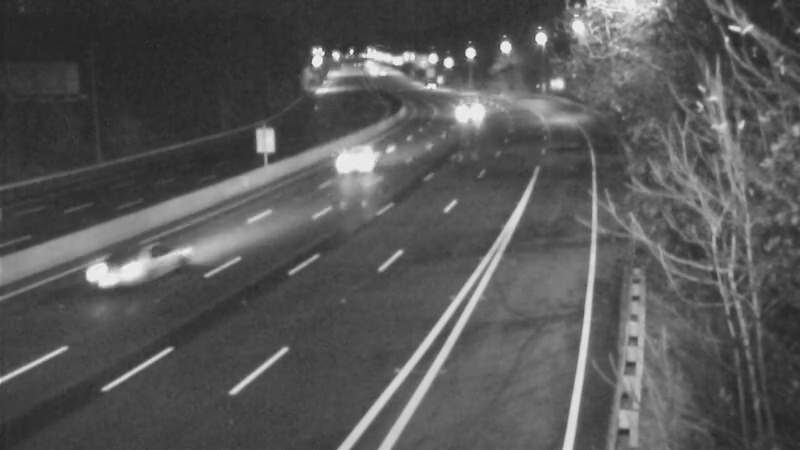vehicle: (319, 123, 399, 203), (85, 224, 165, 304), (407, 62, 457, 112), (448, 86, 498, 136)
